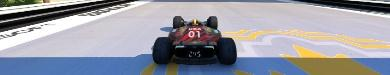Car: (151, 15, 237, 65)
